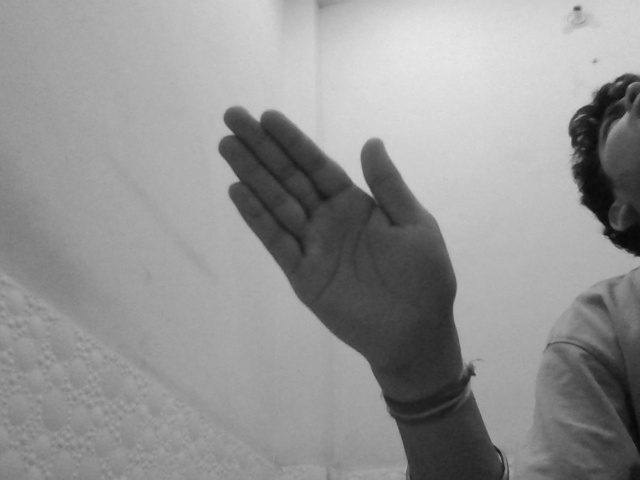Hello: (213, 102, 461, 376)
